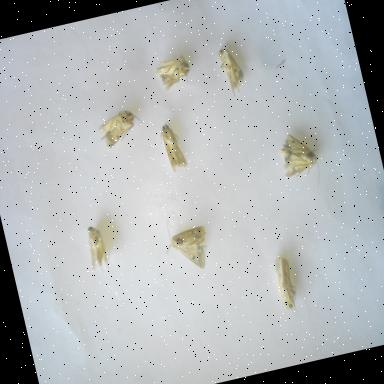abw: (268, 124, 332, 199), (156, 206, 220, 280), (90, 98, 152, 154), (266, 250, 308, 320), (210, 34, 252, 102), (151, 115, 196, 178), (78, 218, 119, 280), (151, 48, 200, 98)
